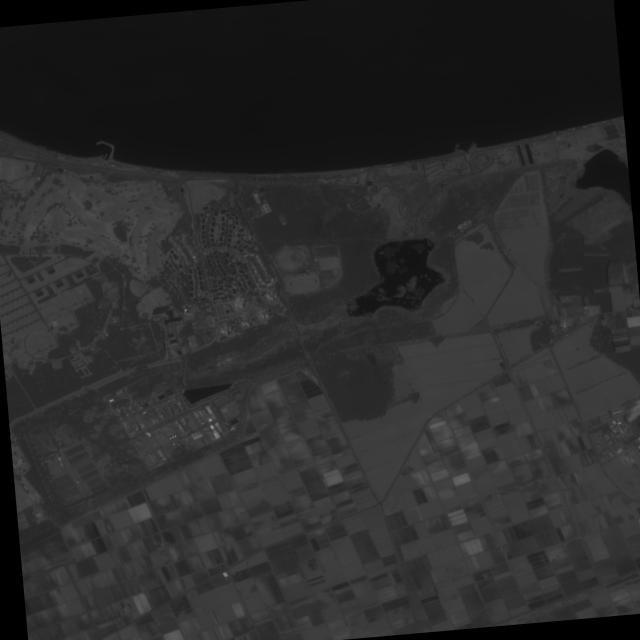ship: (103, 153, 106, 159)
storage-tank: (173, 435, 175, 438), (170, 436, 172, 439), (168, 438, 170, 440), (183, 309, 185, 311)
